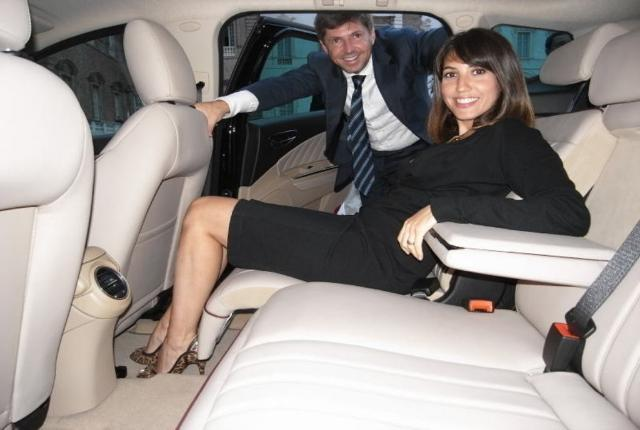SafeDriving: (468, 63, 494, 78), (440, 66, 462, 82)
Seatbelt: (569, 220, 639, 342)
